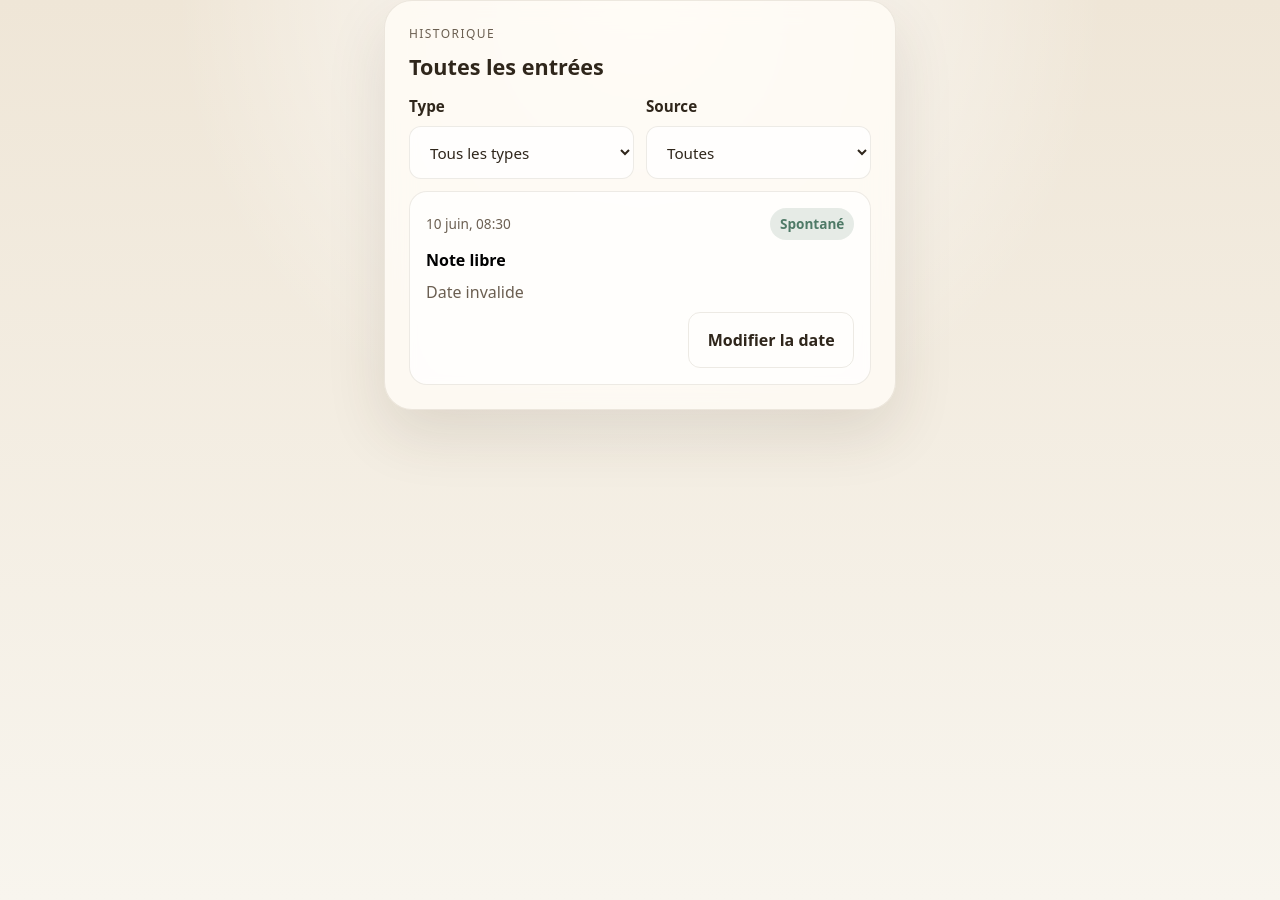
HistoriquePage › shows a validation error and keeps the stored date unchanged when the date is invalid
The image size is (1280, 900).
Check: the text "Date invalide" is shown, box [426, 280, 524, 302]
Click the button with aria-label "Modifier la date de Note libre" at (771, 340), box [688, 312, 854, 368]
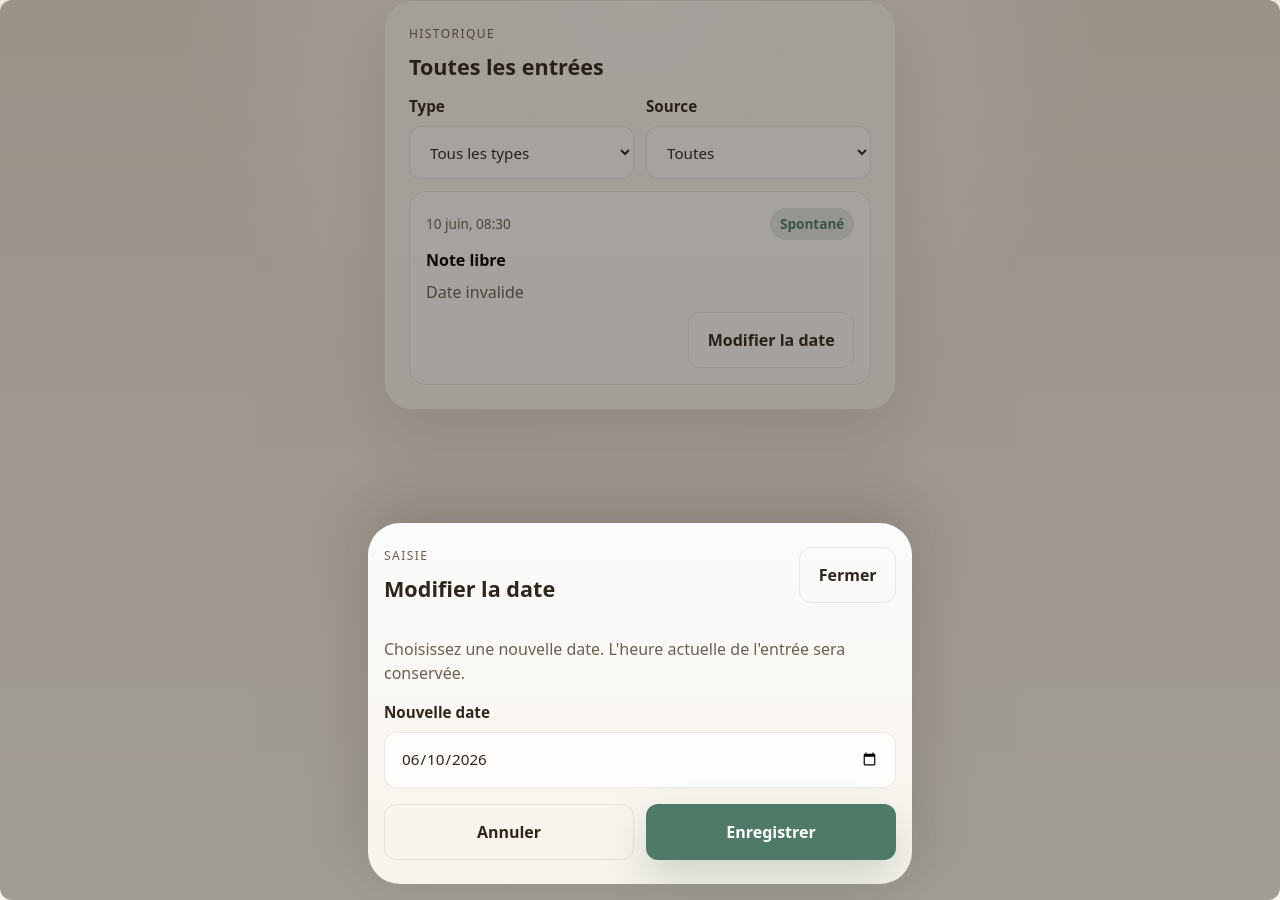
Clear the date field labelled "Nouvelle date" at (640, 760), box [384, 732, 896, 788]
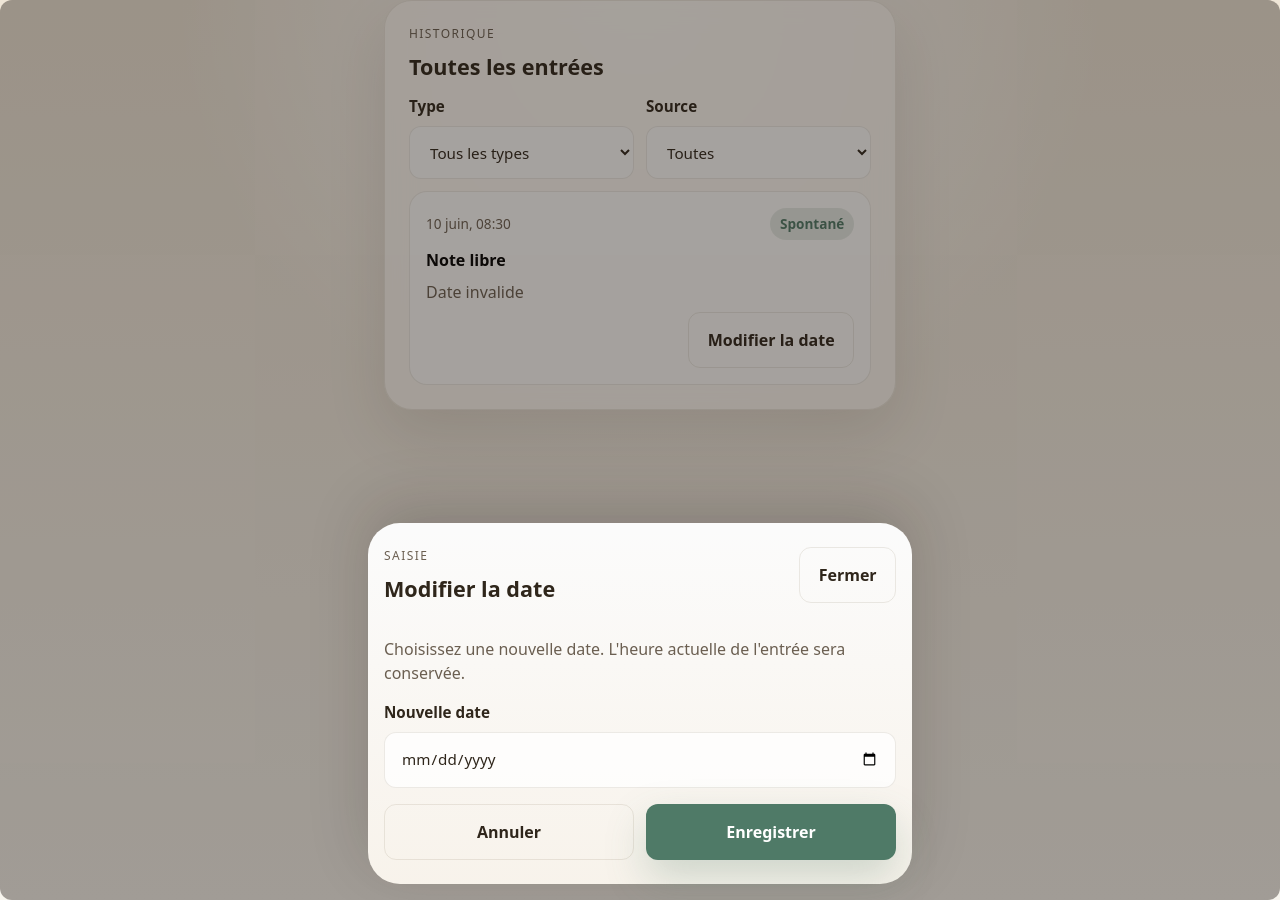
Click the button "Enregistrer" at (771, 832), box [646, 804, 896, 860]
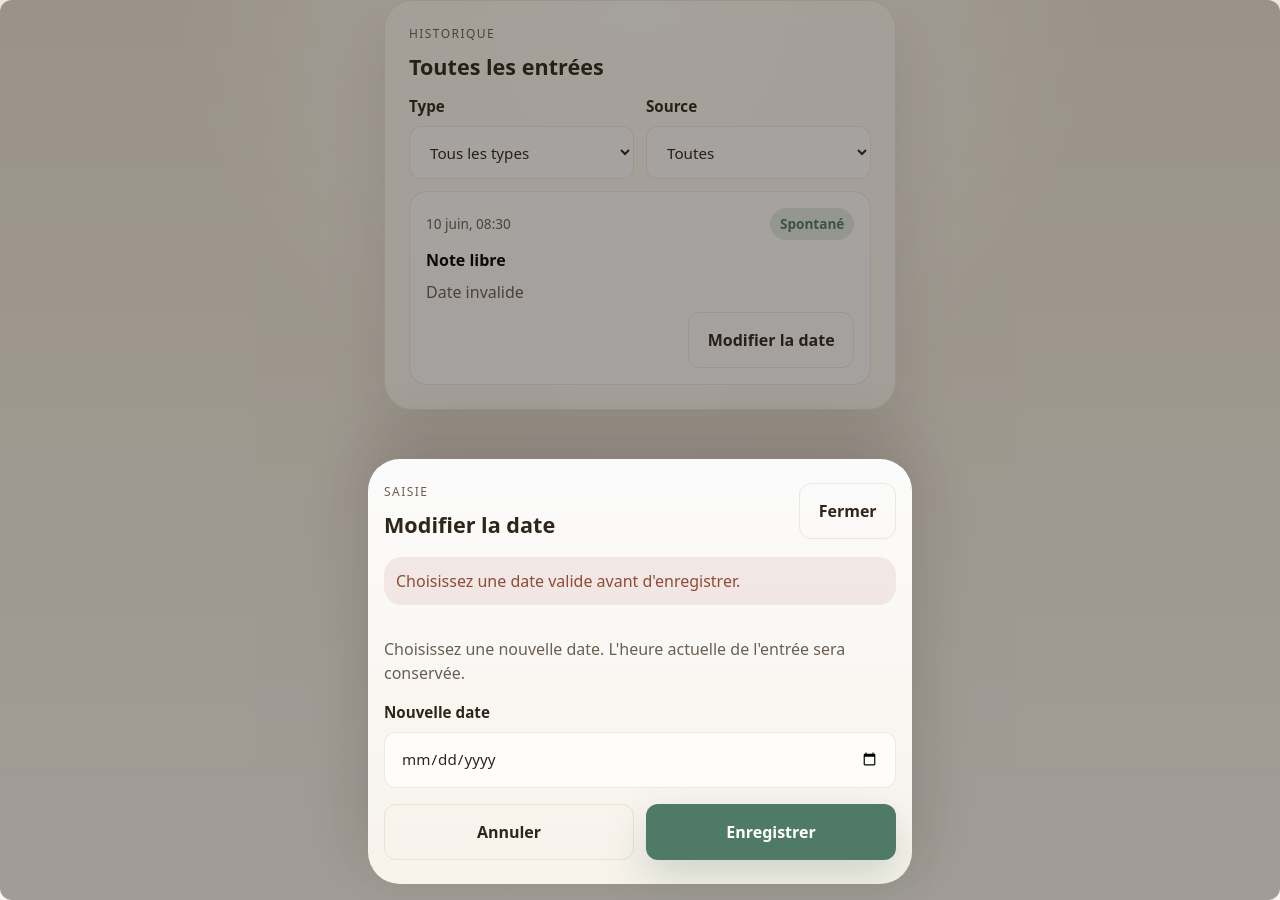
Check: the text "Choisissez une date valide avant d'enregistrer." is shown, box [396, 570, 740, 592]
